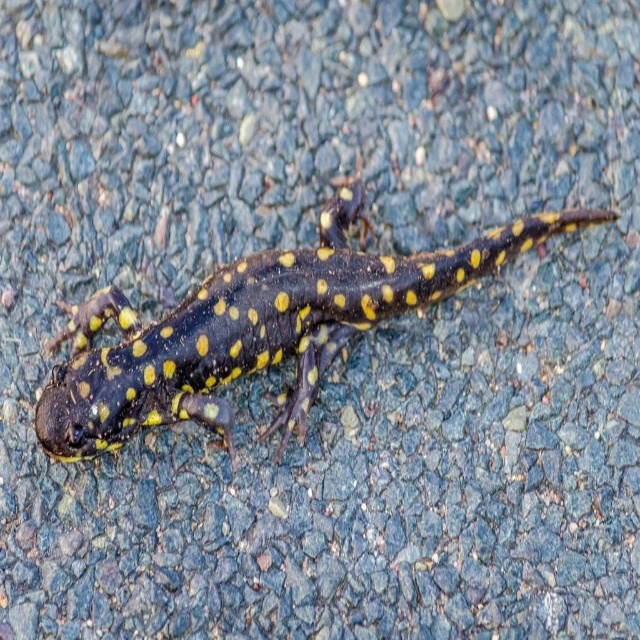Lizard: (34, 179, 623, 484)
